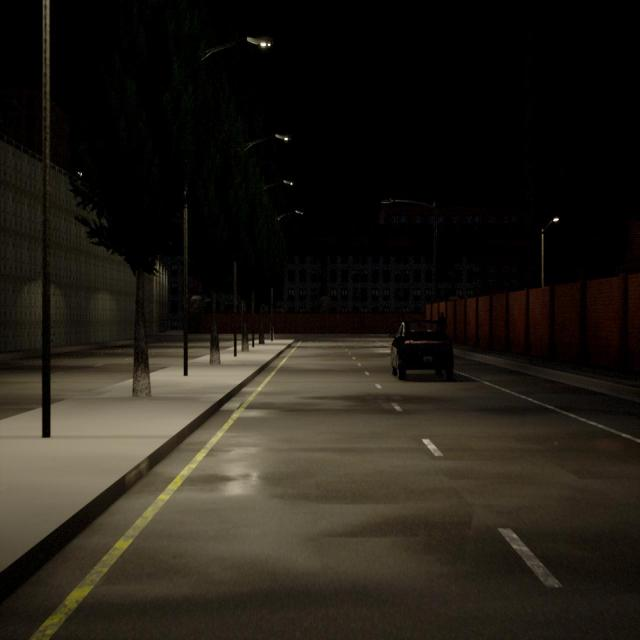Pedestrian: (439, 312, 445, 330)
Vehicle: (391, 321, 452, 378)
